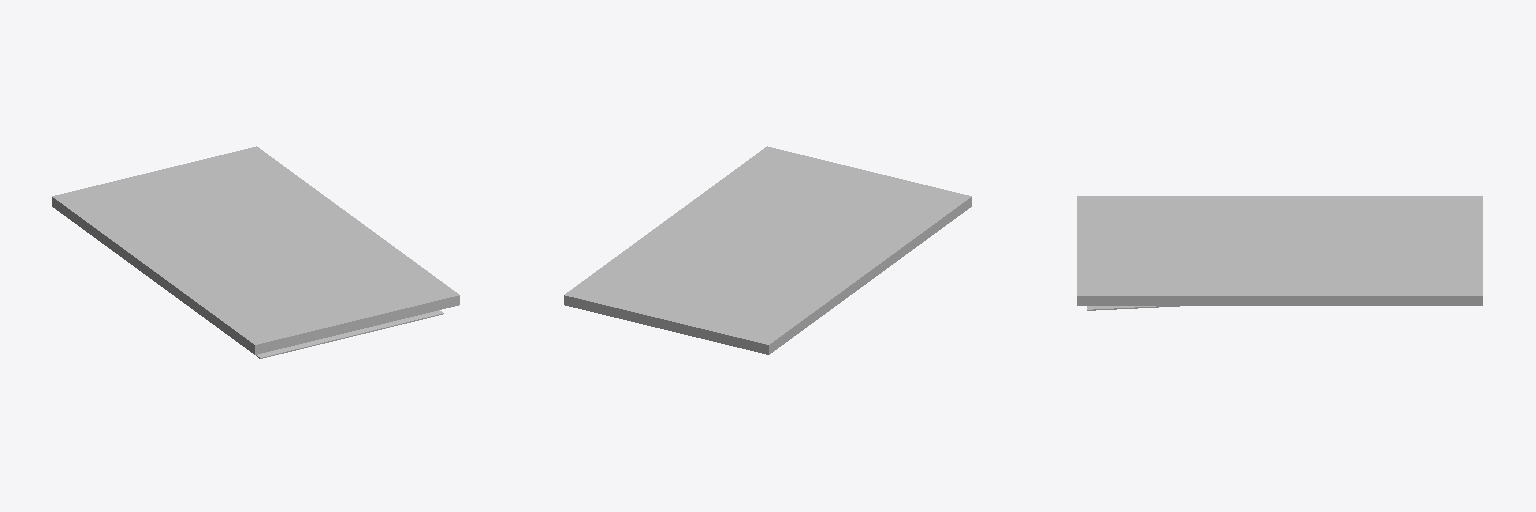
File: WC_Decke_offen.obj
3 renders of one model, left to right at view 1: azimuth 30°, elevation 25°; view 2: azimuth 150°, elevation 25°; view 3: azimuth 270°, elevation 25°, orthographic.
Parts seen in each view (by area): view 1: Mesh26 Component_730 G_12_WC_Decke_offen_dwg1 Model, Mesh10 Component_727 G_12_WC_Decke_offen_dwg1 Model, Mesh28 Component_731 G_12_WC_Decke_offen_dwg1 Model; view 2: Mesh26 Component_730 G_12_WC_Decke_offen_dwg1 Model, Mesh10 Component_727 G_12_WC_Decke_offen_dwg1 Model; view 3: Mesh26 Component_730 G_12_WC_Decke_offen_dwg1 Model, Mesh10 Component_727 G_12_WC_Decke_offen_dwg1 Model.
Boxes of the visible parts, box(x1,y1,x2,y2) form: Mesh26 Component_730 G_12_WC_Decke_offen_dwg1 Model: box(52, 146, 459, 346); Mesh10 Component_727 G_12_WC_Decke_offen_dwg1 Model: box(52, 199, 459, 354); Mesh28 Component_731 G_12_WC_Decke_offen_dwg1 Model: box(256, 310, 443, 358); Mesh26 Component_730 G_12_WC_Decke_offen_dwg1 Model: box(564, 146, 971, 346); Mesh10 Component_727 G_12_WC_Decke_offen_dwg1 Model: box(564, 199, 971, 354); Mesh26 Component_730 G_12_WC_Decke_offen_dwg1 Model: box(1077, 196, 1482, 297); Mesh10 Component_727 G_12_WC_Decke_offen_dwg1 Model: box(1077, 298, 1482, 305).
Bounding box in the file's own units: 94.39 × 9 × 162.